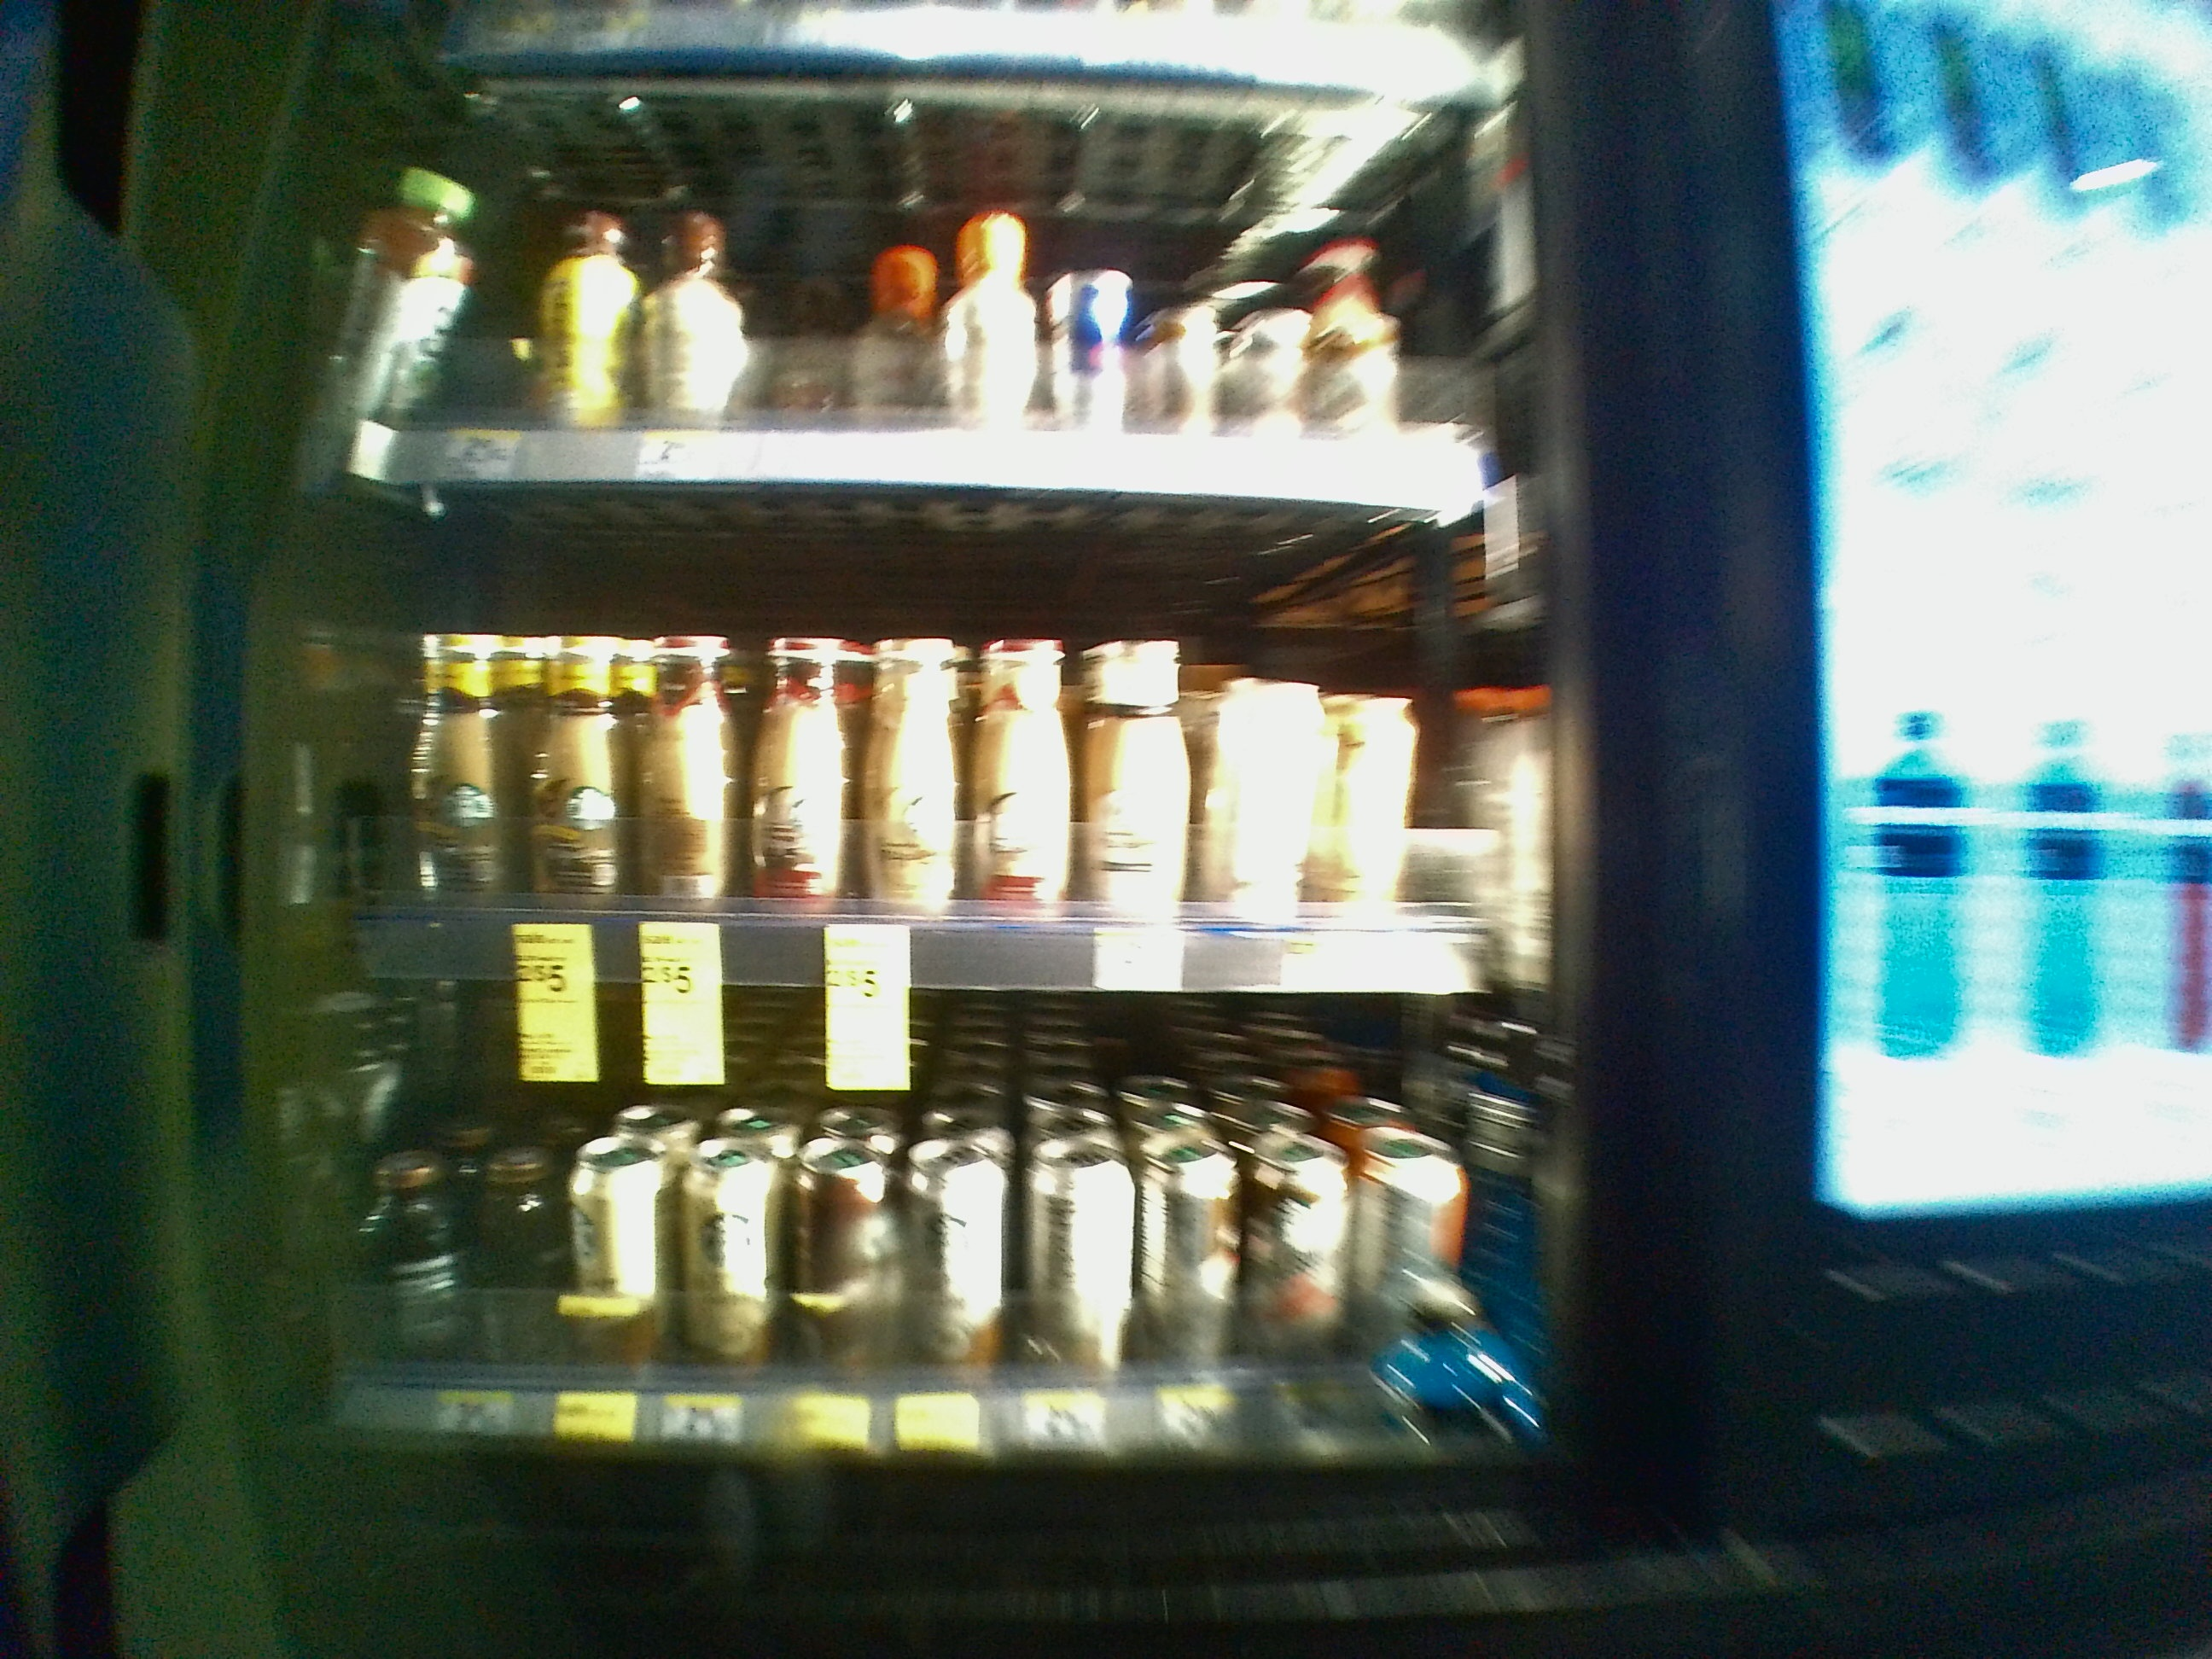shelf: (226, 976, 1581, 1478), (249, 483, 1569, 995)
